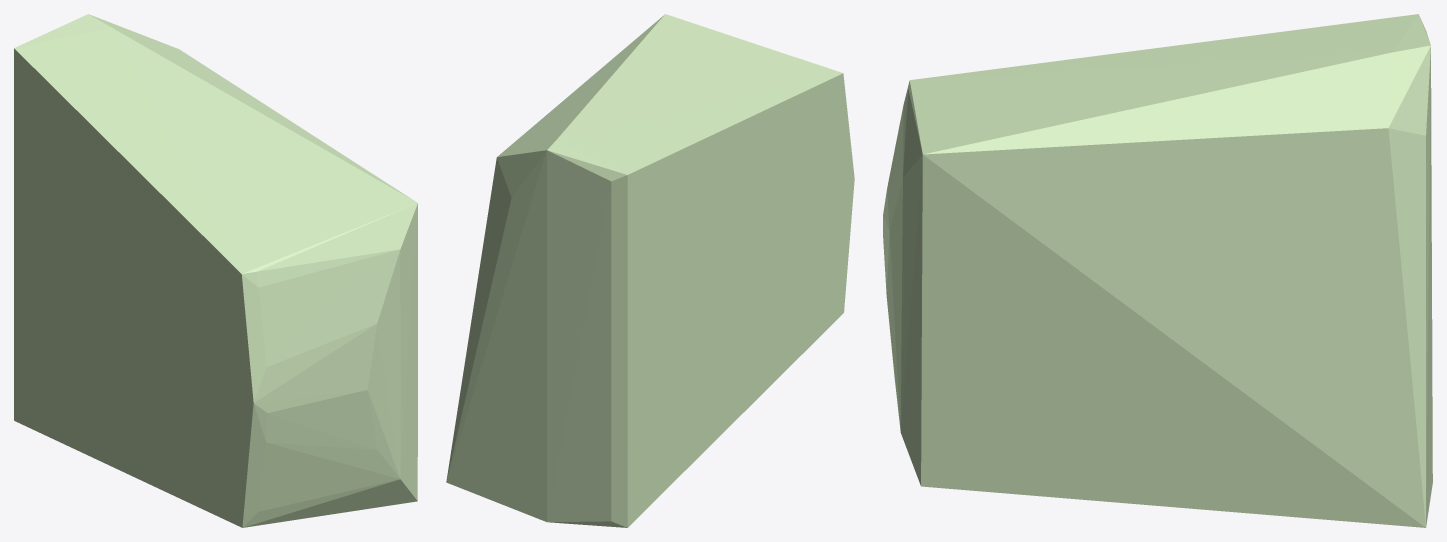
Rendered from kuka_robot_base_coll_2.dae.
3 views of the same model, side by side, from view 1: azimuth 30°, elevation 25°; view 2: azimuth 150°, elevation 25°; view 3: azimuth 270°, elevation 25° (orthographic). The views are drawn at different scales.
Visible parts, largest first — view 1: Node_0000015C5C916960; view 2: Node_0000015C5C916960; view 3: Node_0000015C5C916960.
Boxes of the visible parts, x1,y1,x2,y2 form: Node_0000015C5C916960: (14, 14, 417, 527); Node_0000015C5C916960: (446, 14, 854, 527); Node_0000015C5C916960: (883, 14, 1432, 527).
Bounding box in the file's own units: 0.0675 × 0.1344 × 0.1529.
